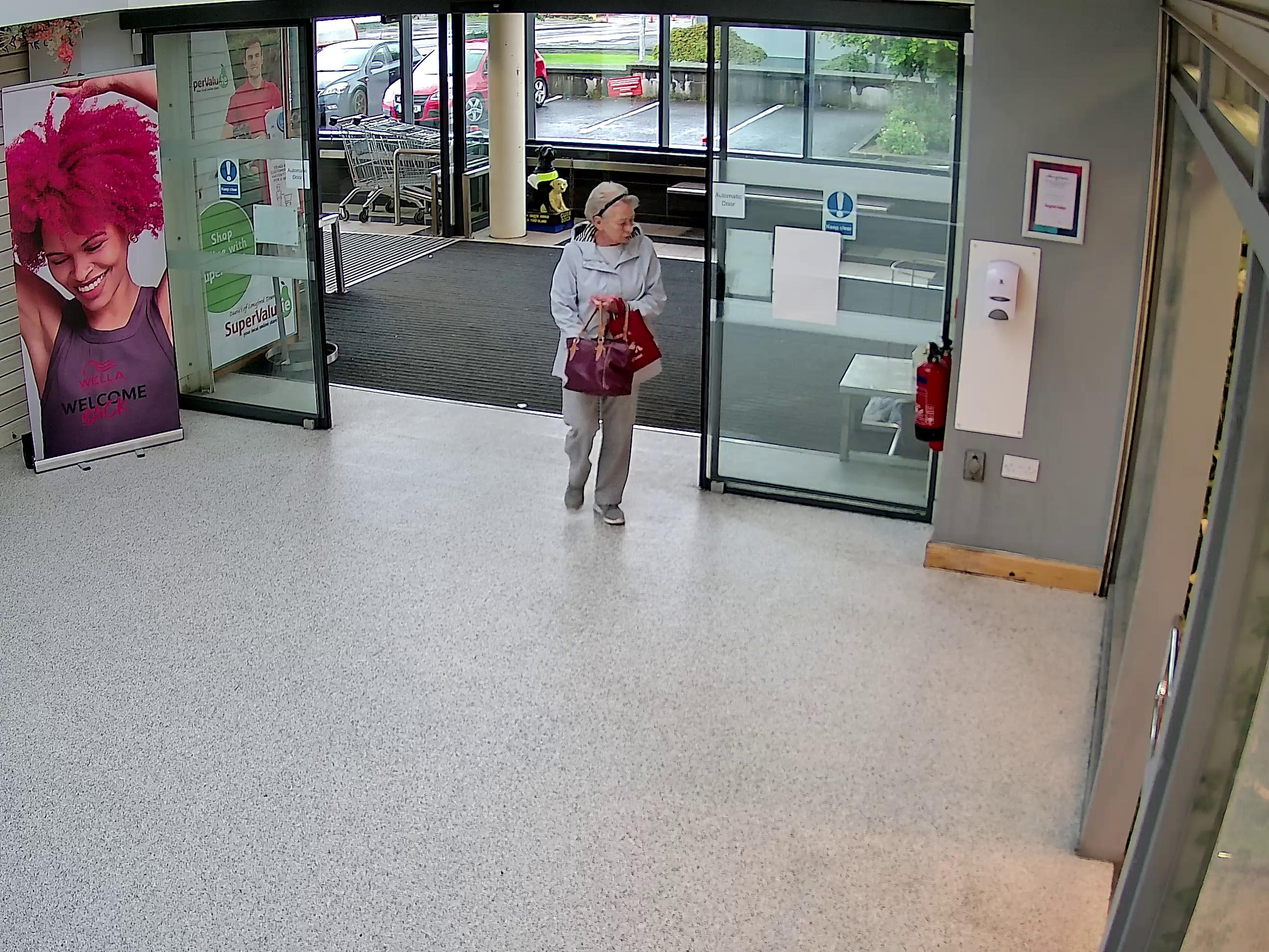backpack-or-handbag: (566, 333, 634, 396)
empty-shopping-bags: (607, 307, 661, 369)
person: (550, 183, 668, 523)
person-with-backpack-handbag-and-shopping-bag-s-: (549, 183, 669, 523)
